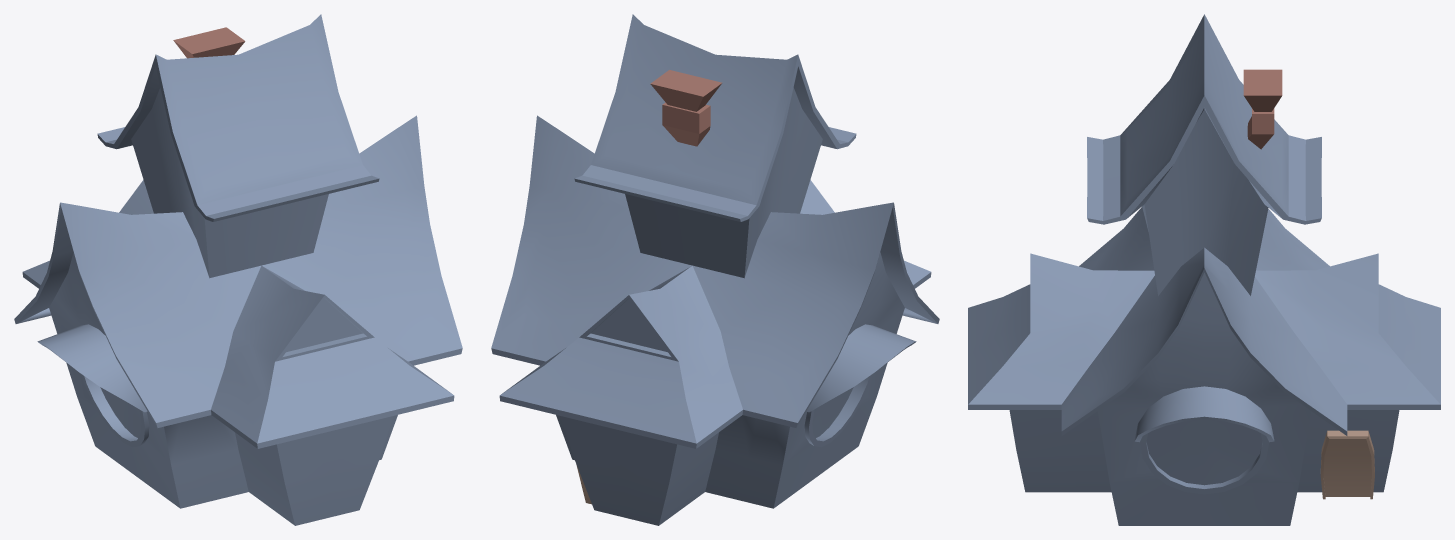
The model's file is house_2BlendShape.fbx.
3 renders of one model, left to right at view 1: azimuth 30°, elevation 25°; view 2: azimuth 150°, elevation 25°; view 3: azimuth 270°, elevation 25°, orthographic.
Visible parts, largest first — view 1: pCube6; view 2: pCube6; view 3: pCube6.
Boxes of the visible parts, bbox=[...] form: pCube6: bbox=[14, 14, 462, 525]; pCube6: bbox=[491, 14, 939, 525]; pCube6: bbox=[968, 14, 1440, 525].
Size of the model in its own units: 8.91 by 9.32 by 9.47.
